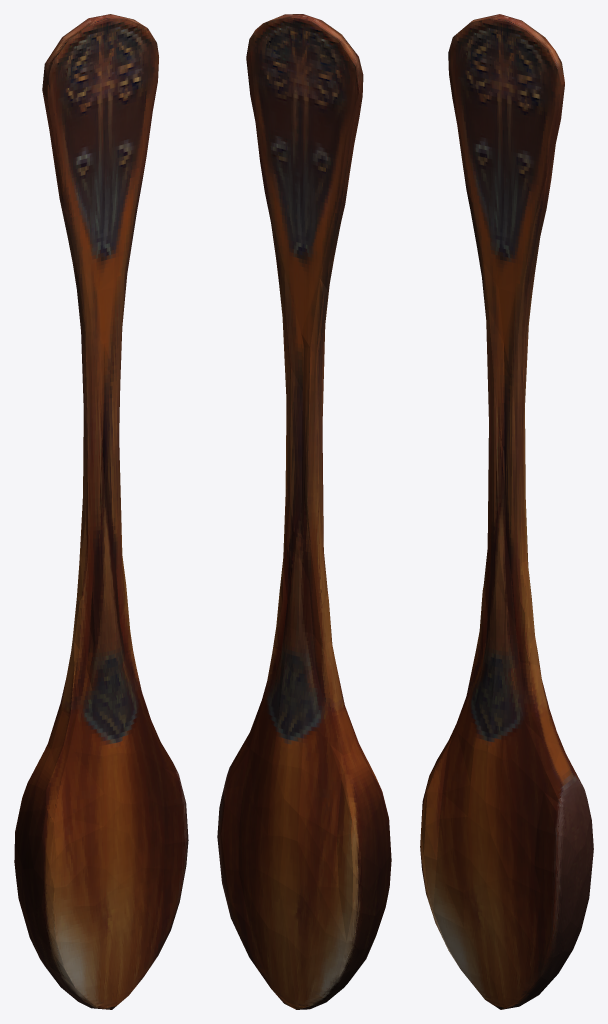
File: wooden-spoon-art-deco.jpeg.glb
3 views of the same model, side by side, from view 1: azimuth 30°, elevation 25°; view 2: azimuth 150°, elevation 25°; view 3: azimuth 330°, elevation 25° (orthographic).
Parts seen in each view (by area): view 1: world; view 2: world; view 3: world.
Boxes of the visible parts, x1,y1,x2,y2 form: world: (14,14,188,1009); world: (217,14,391,1009); world: (420,14,593,1009).
Bounding box in the file's own units: 0.1637 × 1 × 0.0795.
Materials: 1 (1 with a texture image).
